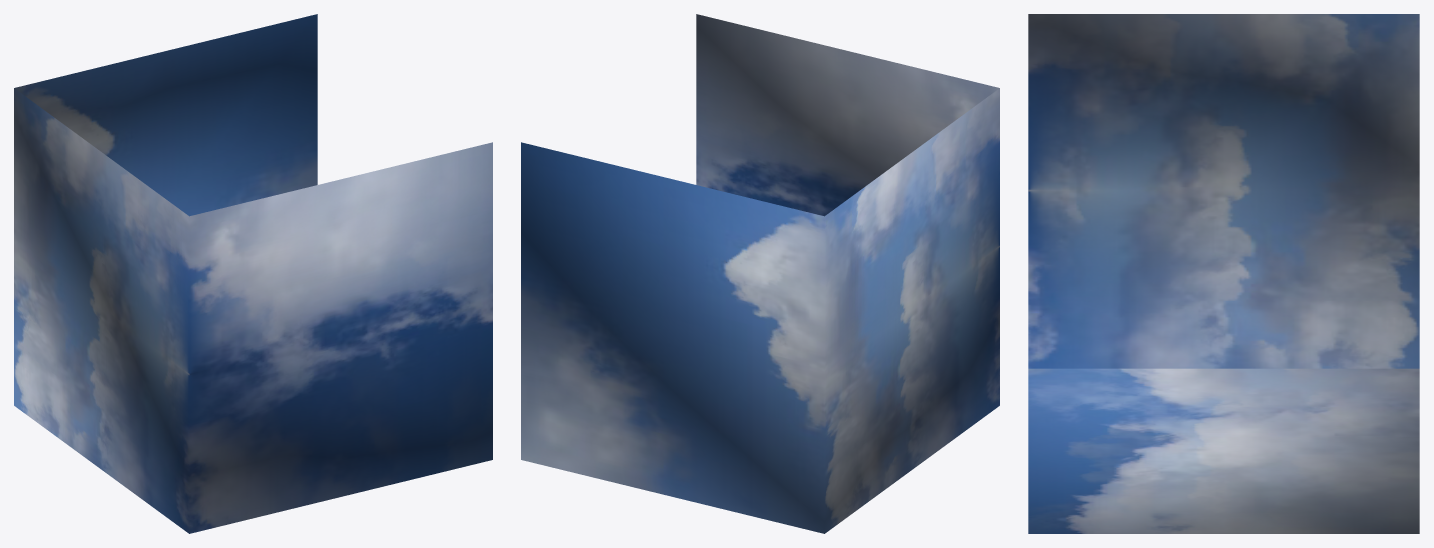
The model's file is box_open.obj.
3 views of the same model, side by side, from view 1: azimuth 30°, elevation 25°; view 2: azimuth 150°, elevation 25°; view 3: azimuth 270°, elevation 25° (orthographic). The views are drawn at different scales.
Visible parts, largest first — view 1: Cube; view 2: Cube; view 3: Cube.
Boxes of the visible parts, x1,y1,x2,y2 form: Cube: (14,14,492,533); Cube: (521,14,999,533); Cube: (1028,14,1419,533).
Size of the model in its own units: 2 by 2 by 2.
